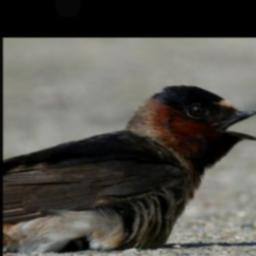Swallow: (4, 83, 256, 255)
